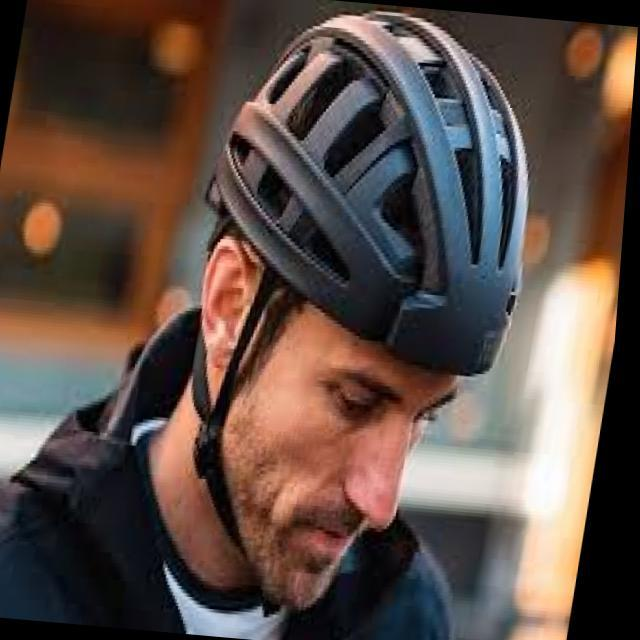Helmet: (178, 8, 531, 624)
